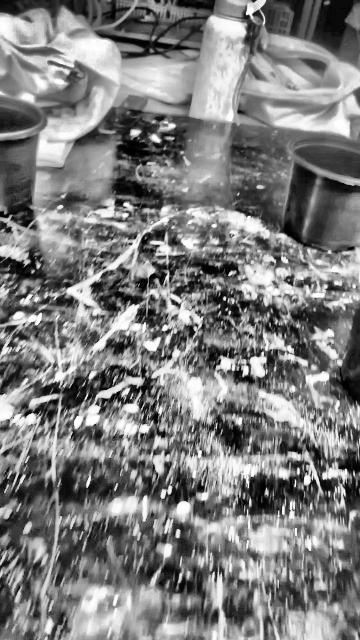pot: (285, 133, 360, 253), (0, 97, 46, 215)
